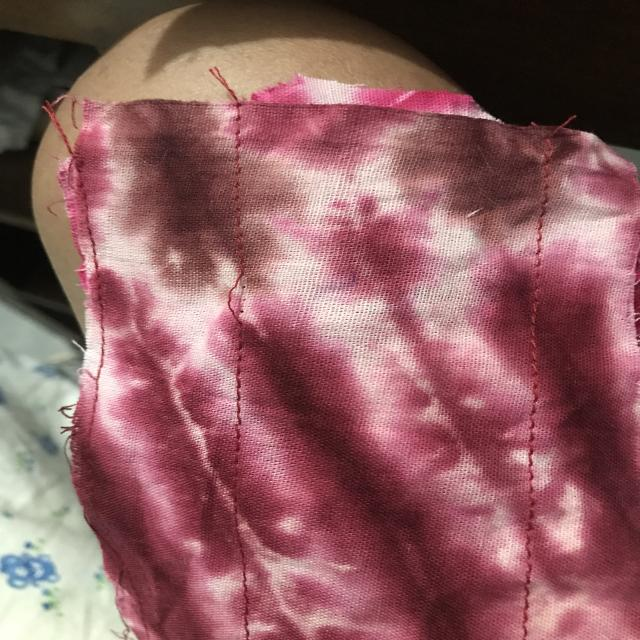good: (514, 384, 548, 485), (221, 353, 264, 413)
skip: (217, 259, 265, 334)
